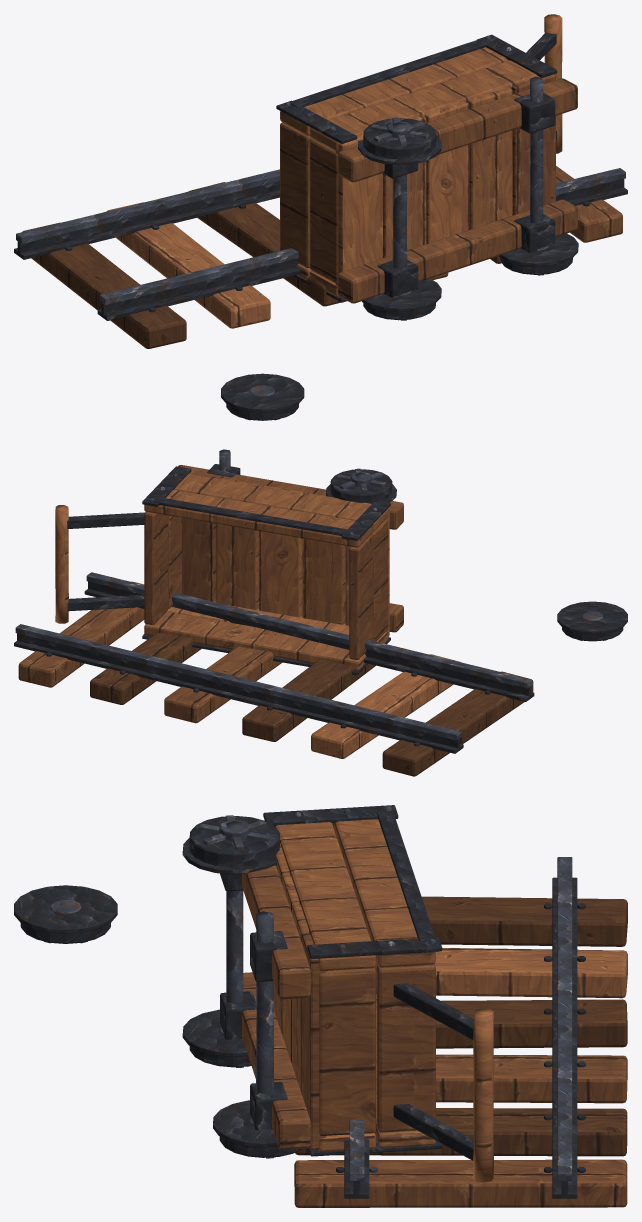
The model's file is hw_derailed_cart.glb.
3 renders of one model, top to bottom at view 1: azimuth 30°, elevation 25°; view 2: azimuth 150°, elevation 25°; view 3: azimuth 270°, elevation 25°, orthographic. The views are drawn at different scales.
Parts seen in each view (by area): view 1: model; view 2: model; view 3: model.
Boxes of the visible parts, x1=… form: model: x1=14, y1=14, x2=627, y2=420; model: x1=14, y1=449, x2=627, y2=776; model: x1=14, y1=805, x2=627, y2=1207.
Size of the model in its own units: 1.8 by 0.62 by 1.48.
Materials: 6 (6 with a texture image).
